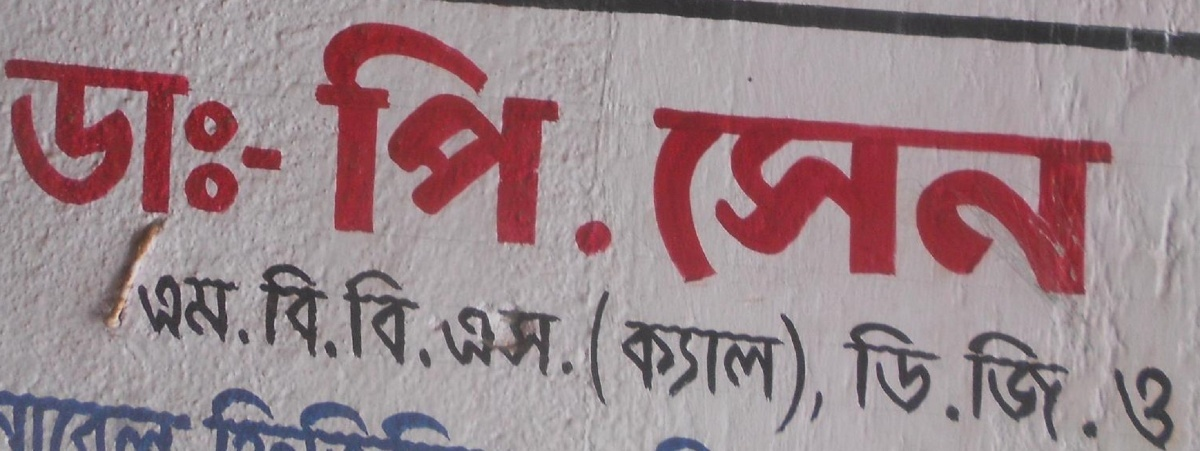text: (321, 22, 336, 259), (337, 22, 352, 259), (353, 22, 368, 259), (369, 22, 384, 259), (385, 22, 400, 259), (401, 22, 416, 259), (417, 22, 432, 259), (433, 22, 448, 259), (449, 22, 464, 259), (465, 22, 480, 259), (481, 22, 496, 259), (497, 22, 512, 259), (513, 22, 528, 259), (529, 22, 544, 259), (545, 22, 560, 259), (561, 22, 576, 259), (577, 22, 592, 259), (593, 22, 608, 259), (609, 22, 624, 259), (657, 107, 672, 297), (673, 107, 688, 297), (689, 107, 704, 297), (705, 107, 720, 297), (721, 107, 736, 297), (737, 107, 752, 297), (753, 107, 768, 297), (769, 107, 784, 297), (785, 107, 800, 297), (801, 107, 816, 297), (817, 107, 832, 297), (833, 107, 848, 297), (849, 107, 864, 297), (865, 107, 880, 297), (881, 107, 896, 297), (897, 107, 912, 297), (913, 107, 928, 297), (929, 107, 944, 297), (945, 107, 960, 297), (961, 107, 976, 297), (977, 107, 992, 297), (993, 107, 1008, 297), (1009, 107, 1024, 297), (1025, 107, 1040, 297), (1041, 107, 1056, 297), (1057, 107, 1072, 297), (1073, 107, 1088, 297), (1089, 107, 1104, 297), (1105, 107, 1119, 297), (17, 55, 32, 217), (33, 55, 48, 217), (49, 55, 64, 217), (65, 55, 80, 217), (81, 55, 96, 217), (97, 55, 112, 217), (113, 55, 128, 217), (129, 55, 144, 217), (145, 55, 160, 217), (161, 55, 176, 217), (177, 55, 192, 217), (193, 55, 208, 217), (209, 55, 224, 217), (225, 55, 240, 217), (241, 55, 256, 217), (257, 55, 272, 217), (2, 55, 16, 217), (273, 55, 287, 217), (593, 290, 608, 435), (609, 290, 624, 435), (625, 290, 640, 435), (641, 290, 656, 435), (657, 290, 672, 435), (673, 290, 688, 435), (689, 290, 704, 435), (705, 290, 720, 435), (721, 290, 736, 435), (737, 290, 752, 435), (753, 290, 768, 435), (769, 290, 784, 435), (785, 290, 800, 435), (801, 290, 816, 435), (311, 22, 320, 259), (817, 290, 830, 435), (961, 328, 976, 446), (977, 328, 992, 446), (993, 328, 1008, 446), (1009, 328, 1024, 446), (1025, 328, 1040, 446), (1041, 328, 1056, 446), (1057, 328, 1072, 446), (1073, 328, 1088, 446), (1089, 328, 1104, 446), (849, 319, 864, 425), (865, 319, 880, 425), (881, 319, 896, 425), (897, 319, 912, 425), (913, 319, 928, 425), (929, 319, 944, 425), (945, 319, 960, 425), (337, 266, 352, 370), (353, 266, 368, 370), (369, 266, 384, 370), (385, 266, 400, 370), (401, 266, 416, 370), (417, 266, 432, 370), (273, 262, 288, 361), (289, 262, 304, 361), (305, 262, 320, 361), (321, 262, 336, 361), (258, 262, 272, 361), (1121, 365, 1136, 451), (1137, 365, 1152, 451), (1153, 365, 1168, 451), (1169, 365, 1184, 451), (145, 273, 160, 348), (161, 273, 176, 348), (177, 273, 192, 348), (193, 273, 208, 348), (209, 273, 224, 348), (225, 273, 240, 348), (433, 304, 448, 377), (449, 304, 464, 377), (465, 304, 480, 377), (481, 304, 496, 377), (497, 304, 512, 377), (513, 304, 528, 377), (529, 304, 544, 377), (545, 304, 560, 377), (561, 304, 576, 377), (838, 319, 848, 425), (961, 319, 971, 425), (241, 273, 254, 348), (17, 385, 32, 447), (33, 385, 48, 447), (49, 385, 64, 447), (65, 385, 80, 447), (81, 385, 96, 447), (97, 385, 112, 447), (113, 385, 128, 447), (129, 385, 144, 447), (145, 385, 160, 447), (161, 385, 176, 447), (177, 385, 192, 447), (193, 385, 208, 447), (209, 385, 224, 447), (225, 385, 240, 447), (241, 385, 256, 447), (257, 385, 272, 447), (273, 385, 288, 447), (289, 385, 304, 447), (305, 385, 320, 447), (321, 385, 336, 447), (337, 385, 352, 447), (353, 385, 368, 447), (369, 385, 384, 447), (385, 385, 400, 447), (401, 385, 416, 447), (417, 385, 432, 447), (433, 385, 448, 447), (449, 385, 464, 447), (465, 385, 480, 447), (481, 385, 496, 447), (497, 385, 512, 447), (513, 385, 528, 447), (529, 385, 544, 447), (545, 385, 560, 447), (561, 385, 576, 447), (577, 385, 592, 447), (593, 385, 608, 447), (609, 385, 624, 447), (625, 385, 640, 447), (641, 385, 656, 447), (657, 385, 672, 447), (673, 385, 688, 447), (689, 385, 704, 447), (3, 385, 16, 447), (577, 304, 585, 377), (137, 273, 144, 348), (1114, 365, 1120, 451), (337, 262, 342, 361), (589, 290, 592, 435), (654, 107, 656, 297), (433, 266, 436, 370), (1185, 365, 1188, 451), (625, 22, 626, 259), (705, 385, 707, 447), (959, 328, 960, 446)
